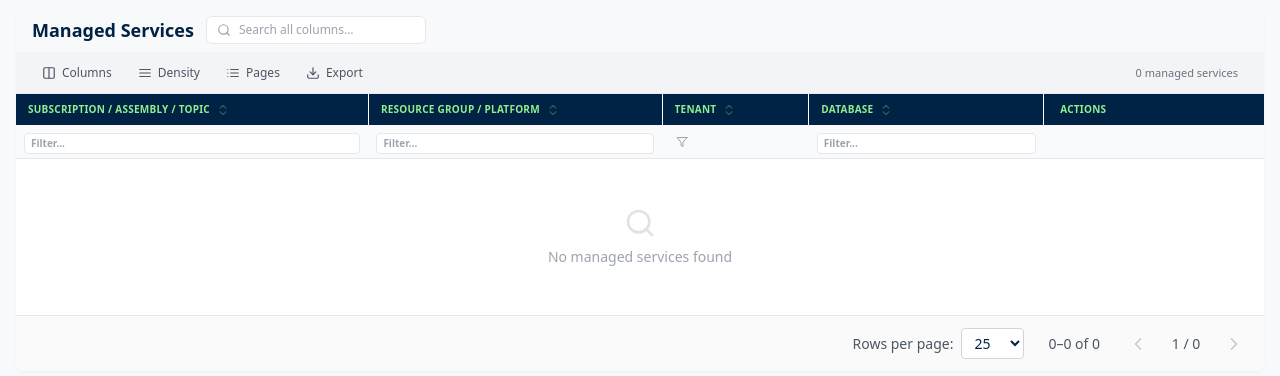
ManagedServicesView › Density menu › selecting Compact from density menu closes the dropdown
Expected: the text "0 managed services" is shown, [1126,61,1248,85]
Click the button "Density".
click(169, 73)  # box [128,59,210,87]
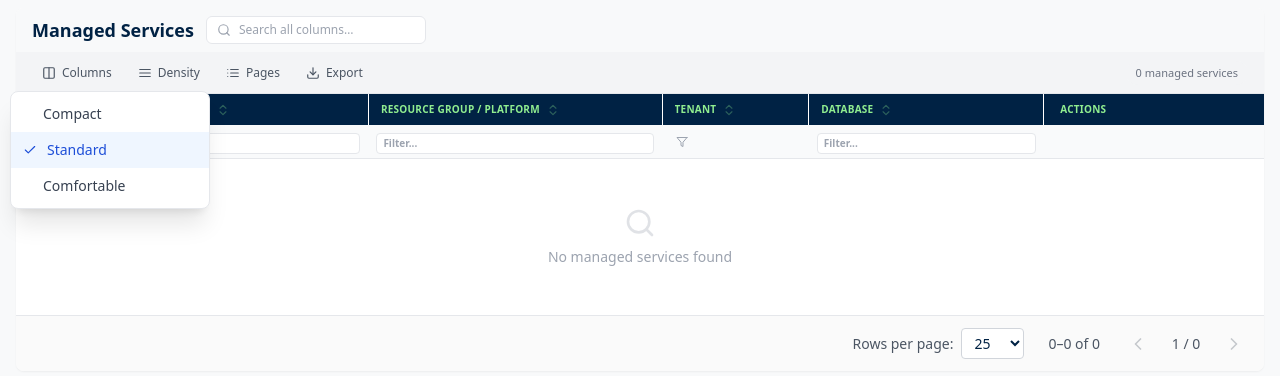
Now the text "Compact" is shown, box [43,104,102,124]
Click the button "Compact".
click(110, 114)  # box [11,96,209,132]
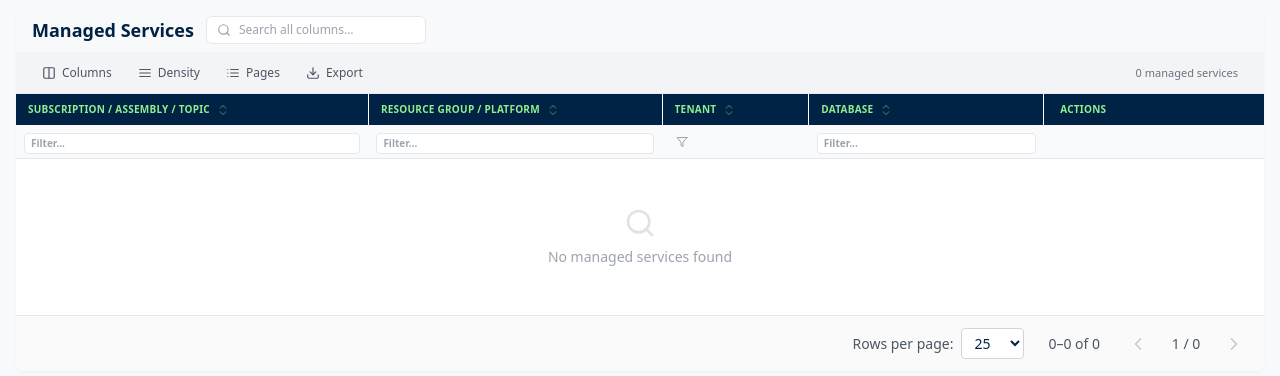
Now the button "Comfortable" is gone
